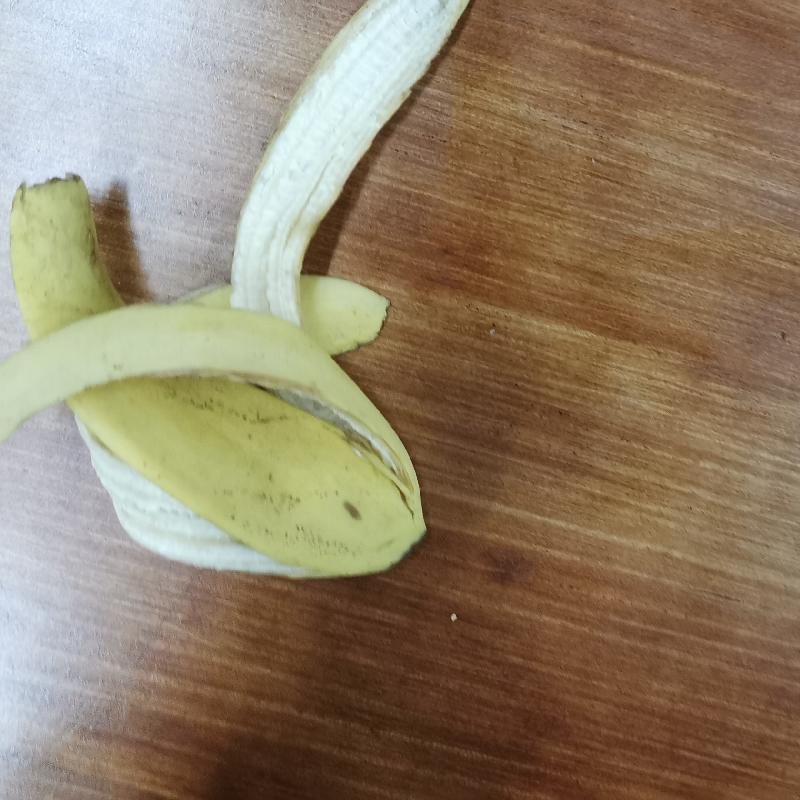bananas: (1, 4, 472, 585)
